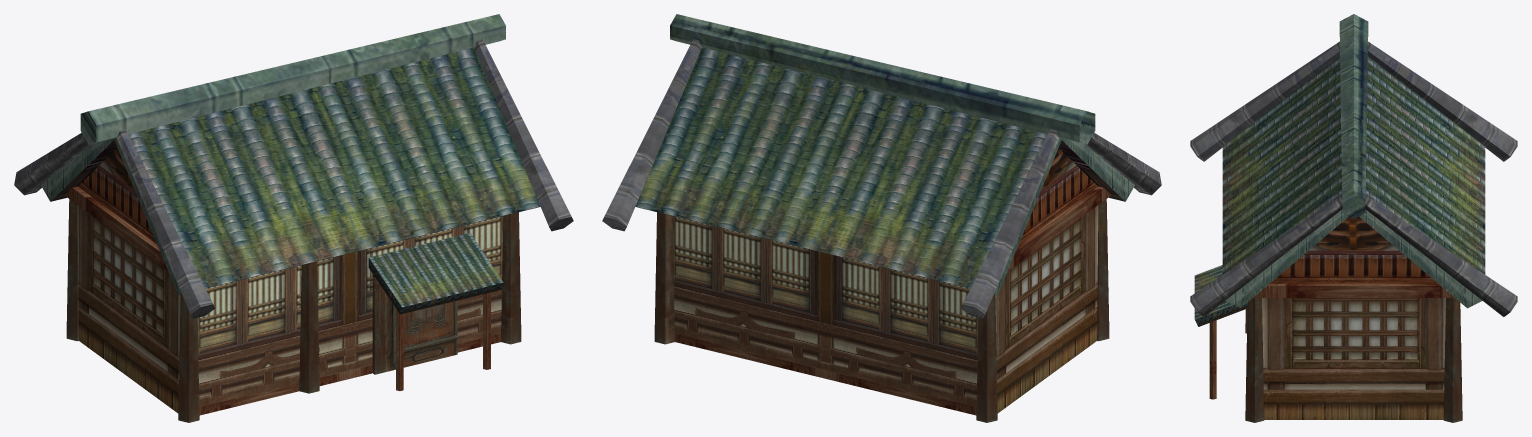
The model's file is a_fangzi_001.fbx.
3 views of the same model, side by side, from view 1: azimuth 30°, elevation 25°; view 2: azimuth 150°, elevation 25°; view 3: azimuth 270°, elevation 25° (orthographic). The views are drawn at different scales.
Visible parts, largest first — view 1: polySurface12, polySurface14, polySurface6, polySurface3, polySurface1, polySurface16, polySurface17, polySurface5, polySurface9, polySurface7, polySurface8, polySurface13 (+4 smaller); view 2: polySurface12, polySurface14, polySurface6, polySurface18, polySurface19, polySurface5, polySurface10, polySurface11, polySurface13, polySurface17, polySurface8; view 3: polySurface12, polySurface14, polySurface15, polySurface6, polySurface16, polySurface18, polySurface17, polySurface19, polySurface13, polySurface7, polySurface10, polySurface3 (+1 smaller).
Part boxes in pixels (bbox=[...]): polySurface12: bbox=[41, 47, 540, 295]; polySurface14: bbox=[77, 205, 503, 415]; polySurface6: bbox=[80, 14, 505, 144]; polySurface3: bbox=[368, 233, 503, 314]; polySurface1: bbox=[372, 274, 457, 374]; polySurface16: bbox=[474, 39, 573, 231]; polySurface17: bbox=[116, 129, 215, 318]; polySurface5: bbox=[78, 148, 156, 243]; polySurface9: bbox=[299, 261, 319, 393]; polySurface7: bbox=[501, 212, 521, 344]; polySurface8: bbox=[178, 294, 199, 422]; polySurface13: bbox=[64, 186, 167, 270]; polySurface12: bbox=[635, 47, 1134, 295]; polySurface14: bbox=[672, 205, 1098, 415]; polySurface6: bbox=[670, 14, 1095, 144]; polySurface18: bbox=[602, 39, 701, 231]; polySurface19: bbox=[960, 129, 1059, 318]; polySurface5: bbox=[1019, 148, 1097, 243]; polySurface10: bbox=[654, 212, 674, 344]; polySurface11: bbox=[976, 294, 997, 422]; polySurface13: bbox=[1008, 186, 1111, 270]; polySurface17: bbox=[1085, 132, 1161, 195]; polySurface8: bbox=[1097, 199, 1109, 341]; polySurface12: bbox=[1222, 56, 1485, 308]; polySurface14: bbox=[1262, 298, 1445, 419]; polySurface15: bbox=[1270, 216, 1437, 283]; polySurface6: bbox=[1339, 14, 1368, 218]; polySurface16: bbox=[1190, 195, 1342, 316]; polySurface18: bbox=[1365, 195, 1517, 316]; polySurface17: bbox=[1190, 41, 1339, 161]; polySurface19: bbox=[1368, 41, 1517, 161]; polySurface13: bbox=[1253, 283, 1454, 297]; polySurface7: bbox=[1245, 298, 1264, 422]; polySurface10: bbox=[1443, 298, 1462, 422]; polySurface3: bbox=[1194, 265, 1247, 326].
Size of the model in its own units: 8.51 by 5.47 by 6.61.
